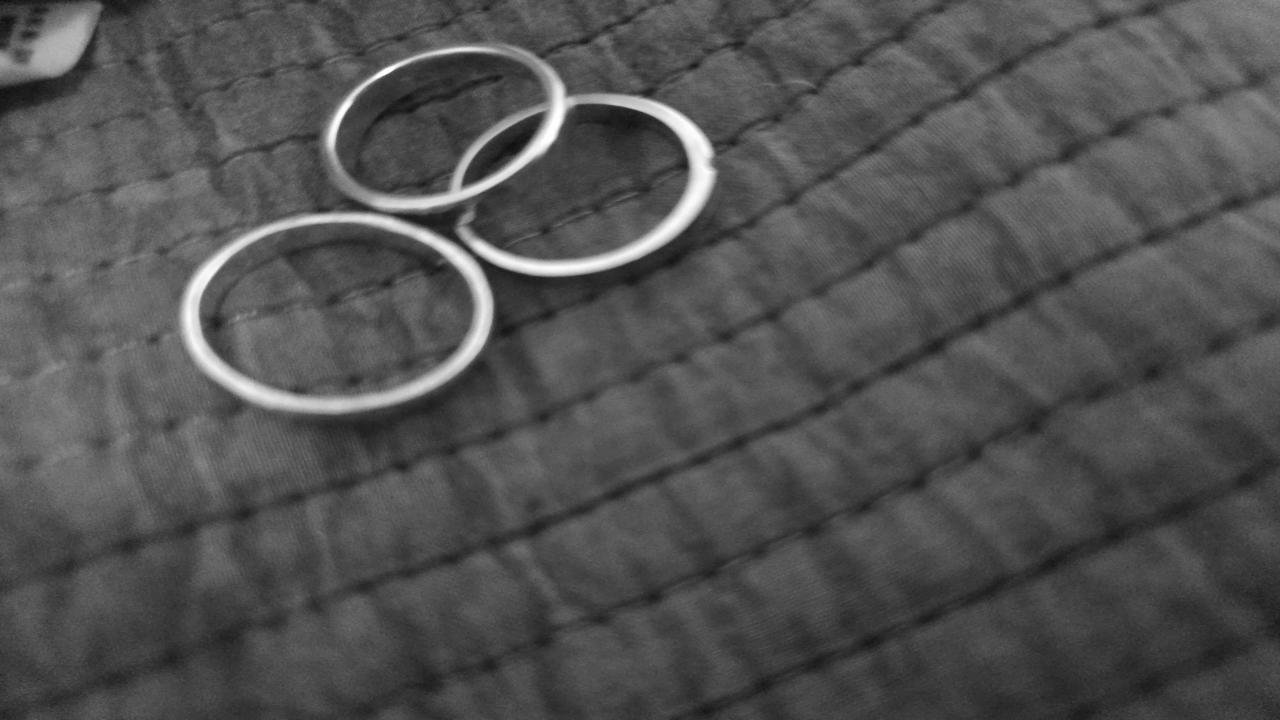ring: (176, 214, 494, 413), (446, 94, 716, 276), (318, 39, 566, 214)
